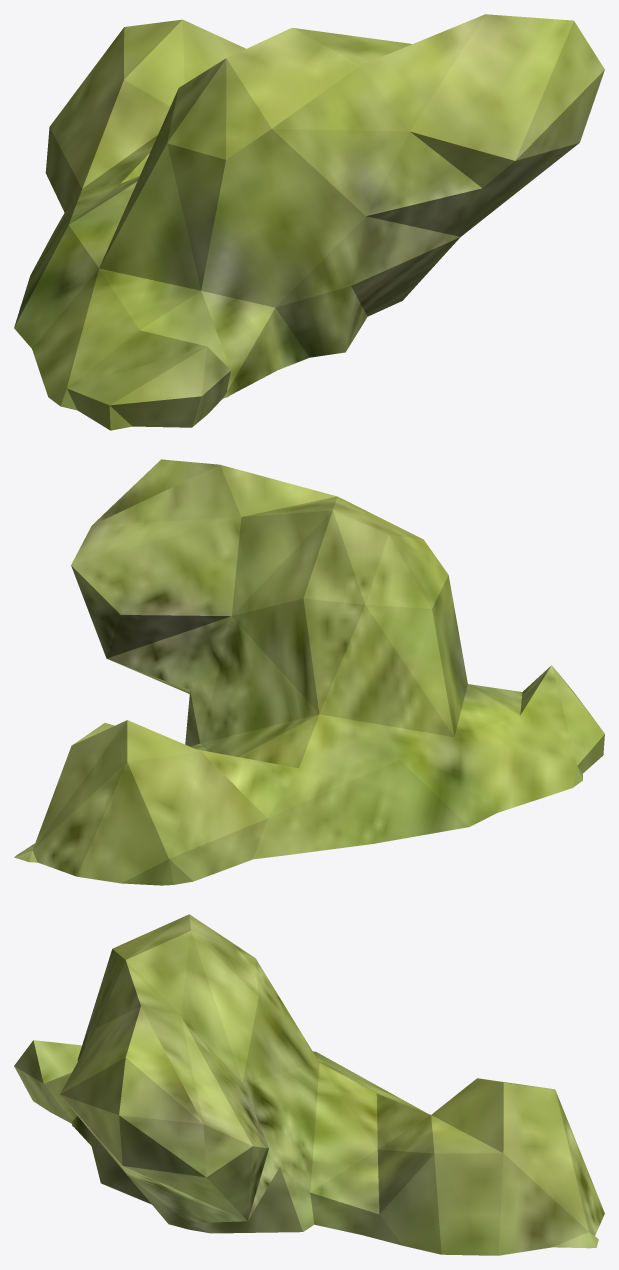
3 views of the same model, one above another, from view 1: azimuth 30°, elevation 25°; view 2: azimuth 150°, elevation 25°; view 3: azimuth 270°, elevation 25° (orthographic). The views are drawn at different scales.
Bounding box in the file's own units: 0.7054 × 0.3415 × 0.7269.
1 material, 1 textured.
